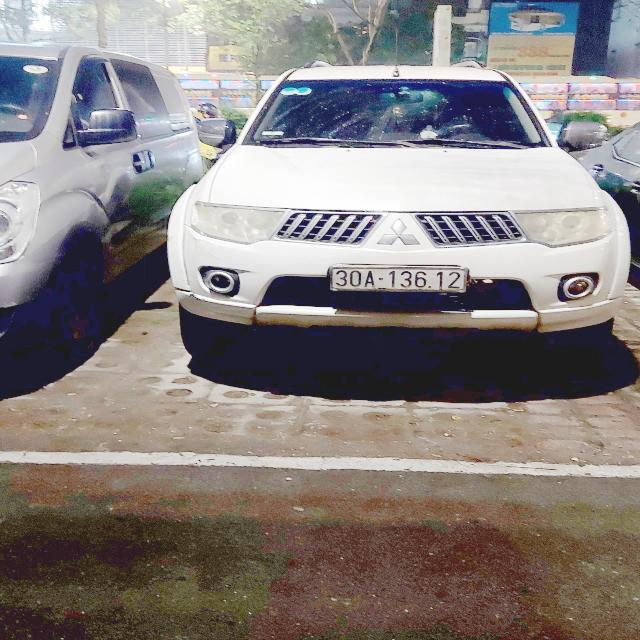license_plate: (329, 265, 472, 295)
